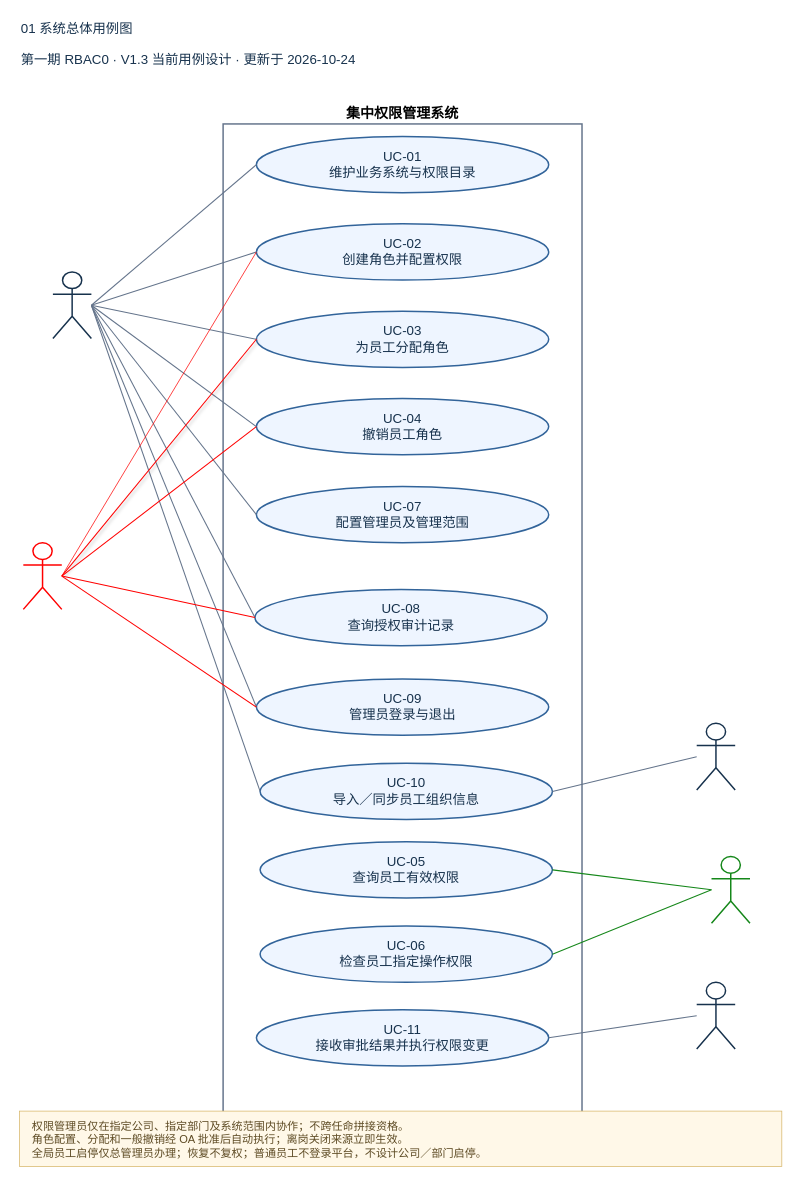
Some shapes in this 795 by 1180 pixel diagram are drawn without their labels. Each missing label, with the centre of its shape:
OA 协同办公系统: the point at 716,1015
业务系统: the point at 730,889
人力资源管理系统 （HR）: the point at 716,756
权限中心总管理员: the point at 72,305
权限管理员: the point at 42,576
